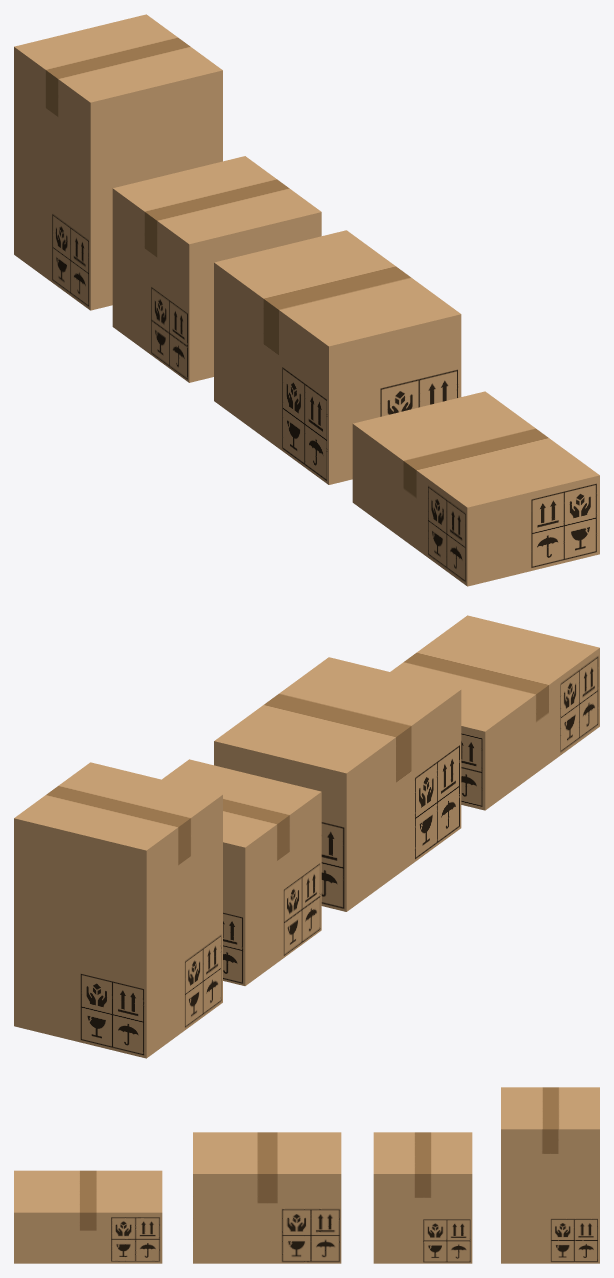
Rendered from Boxes.FBX.
3 views of the same model, one above another, from view 1: azimuth 30°, elevation 25°; view 2: azimuth 150°, elevation 25°; view 3: azimuth 270°, elevation 25° (orthographic). The views are drawn at different scales.
Visible parts, largest first — view 1: Box03, Box01, Box04, Box02; view 2: Box01, Box03, Box04, Box02; view 3: Box03, Box01, Box04, Box02.
Boxes of the visible parts, x1,y1,x2,y2 form: Box03: (214, 230, 461, 484); Box01: (14, 14, 222, 310); Box04: (352, 391, 599, 586); Box02: (112, 156, 321, 382); Box01: (14, 762, 222, 1058); Box03: (214, 657, 461, 911); Box04: (390, 615, 599, 810); Box02: (162, 759, 321, 985); Box03: (193, 1132, 341, 1263); Box01: (501, 1087, 599, 1263); Box04: (14, 1170, 162, 1263); Box02: (373, 1132, 472, 1263).
Size of the model in its own units: 2 by 3 by 11.86.
Materials: 4 (4 with a texture image).
